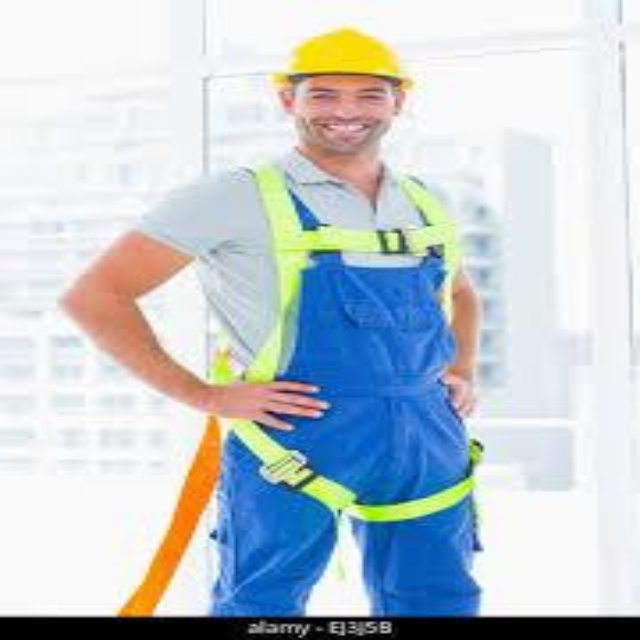Arnes_seguridad: (196, 161, 489, 530)
